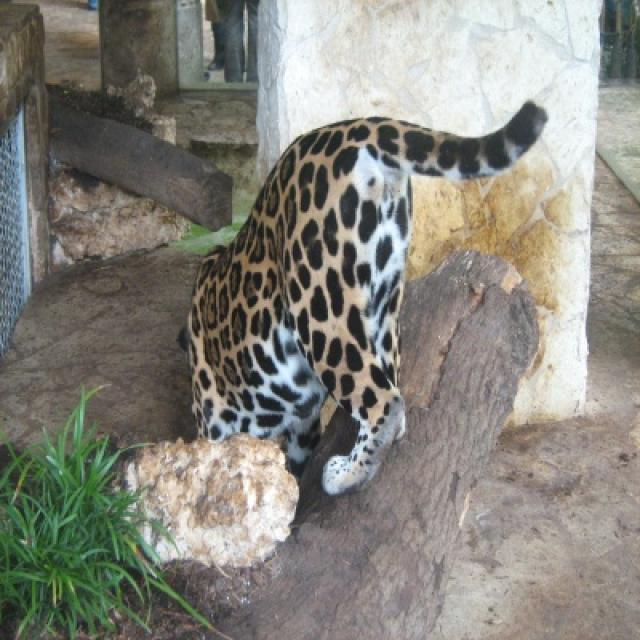Jaguar: (179, 101, 550, 498)
